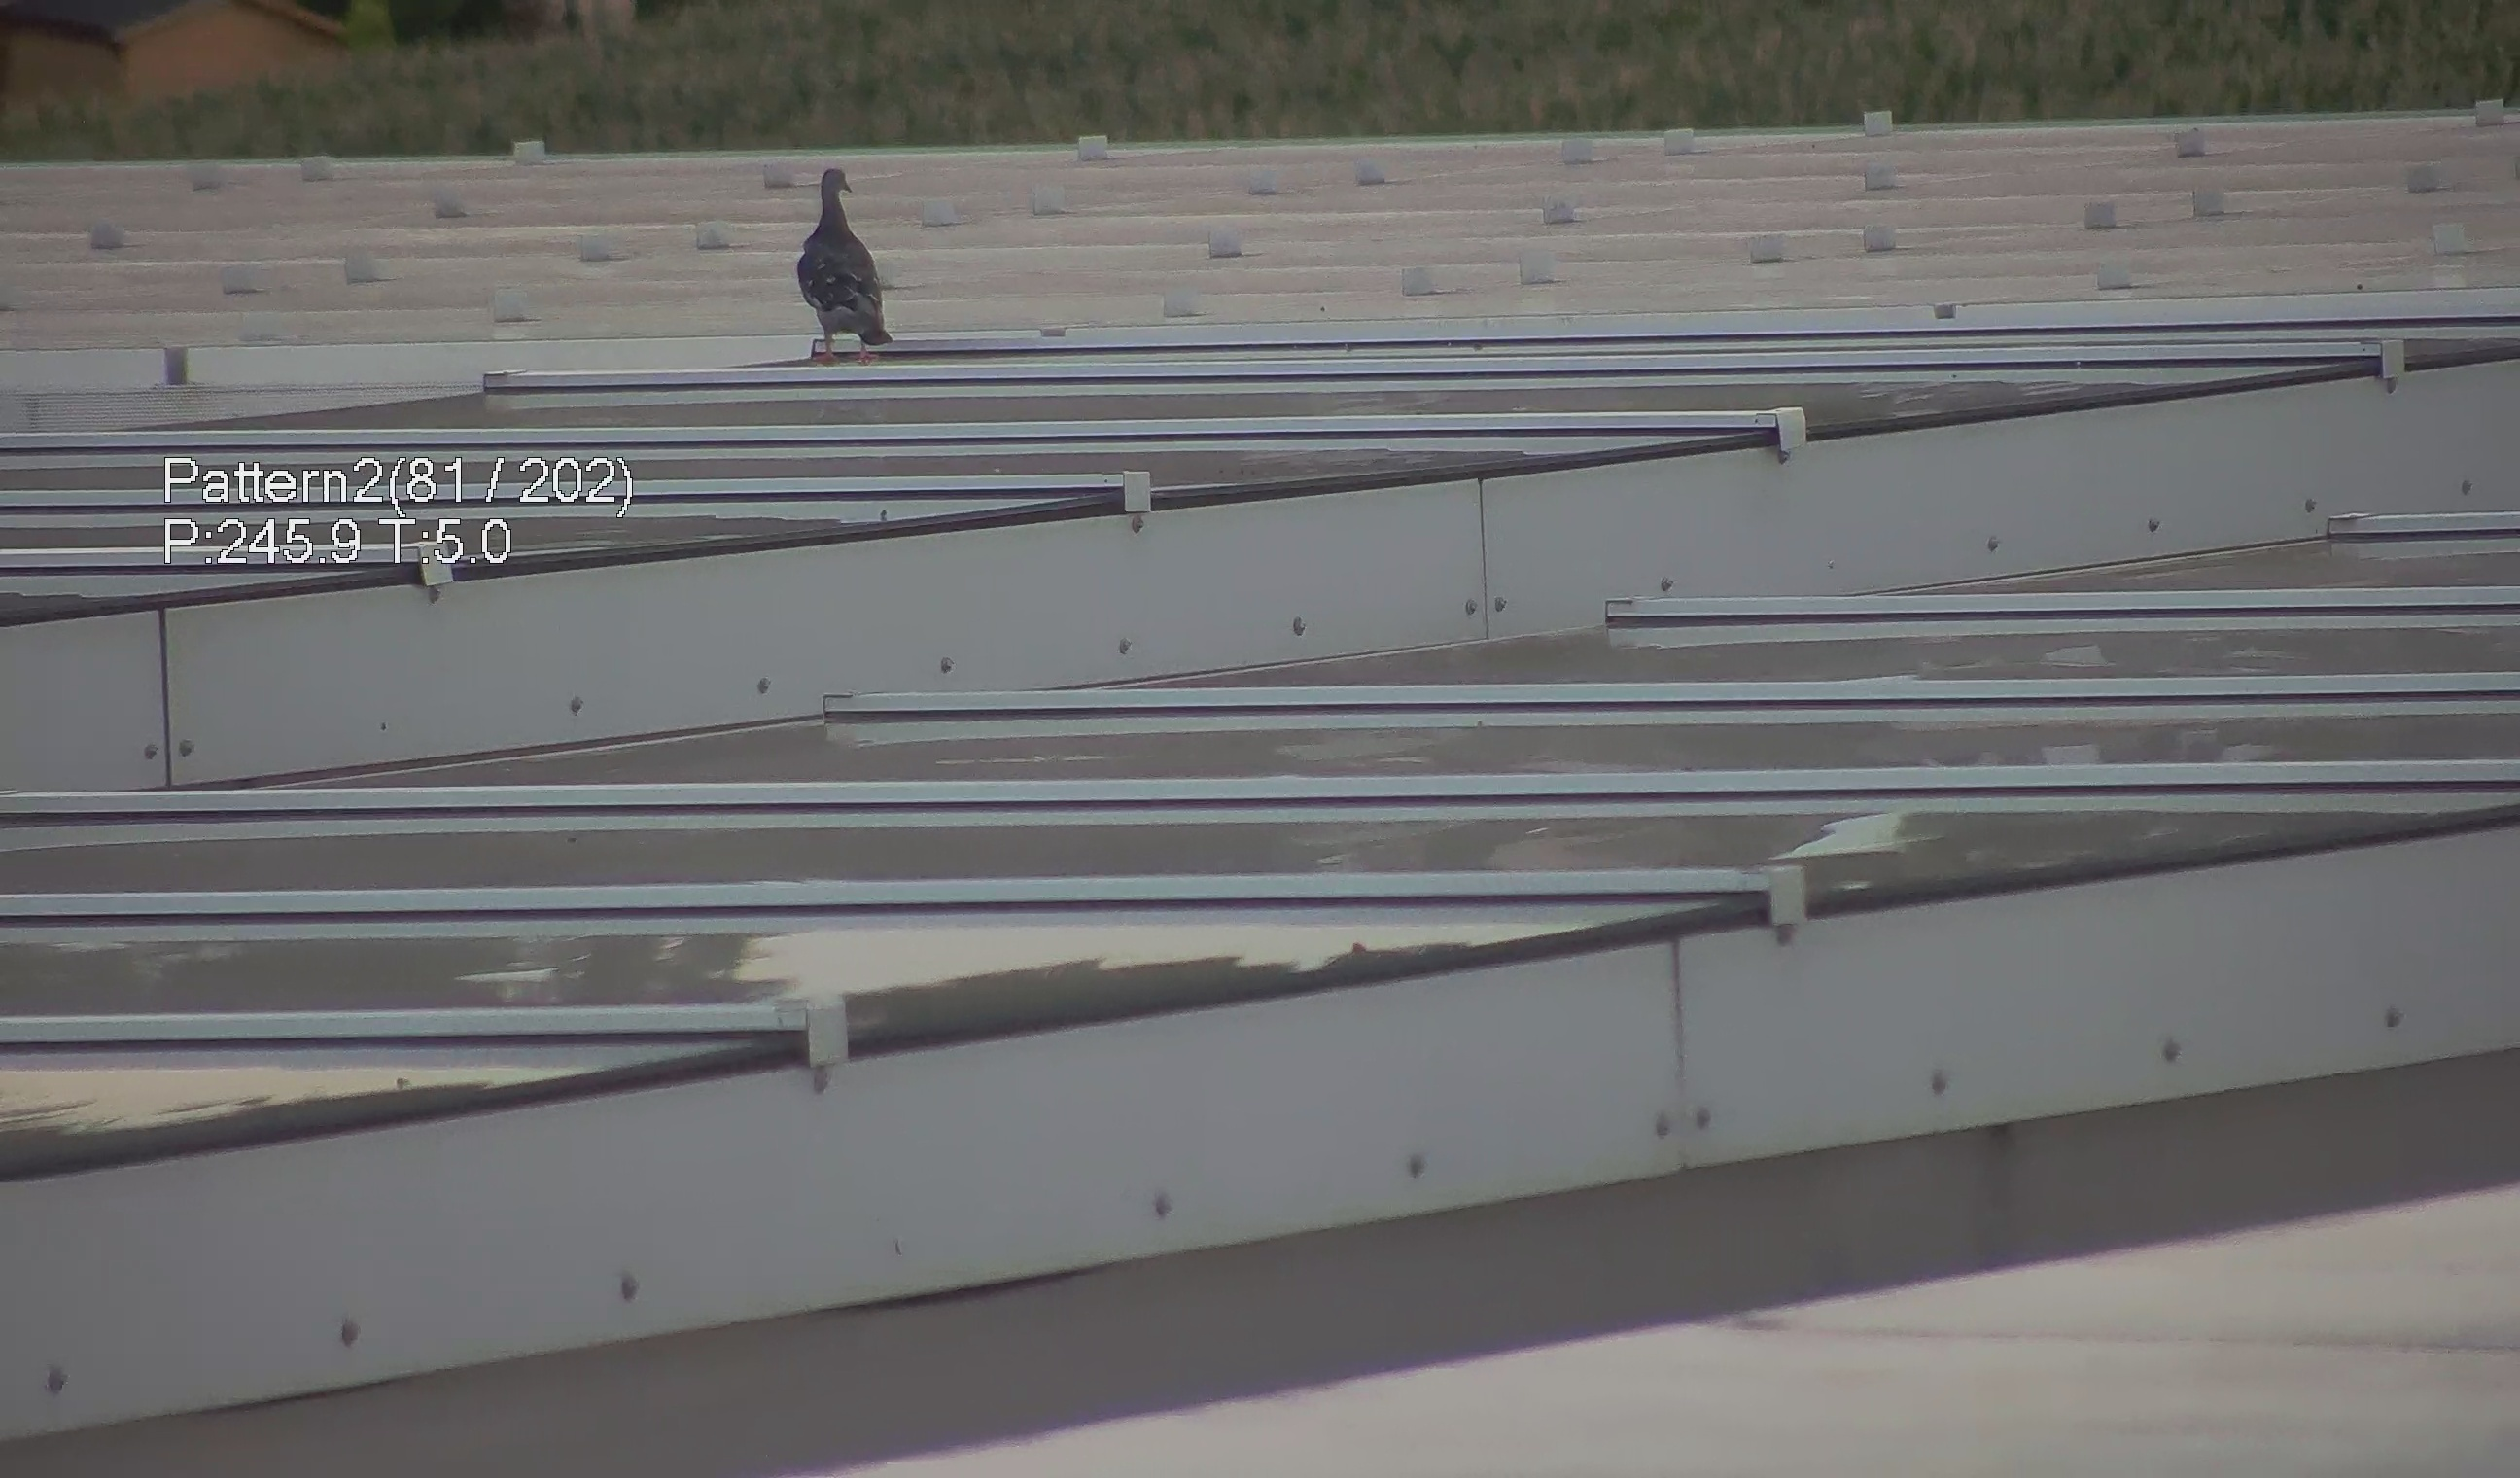Pigeon: (772, 157, 895, 343)
